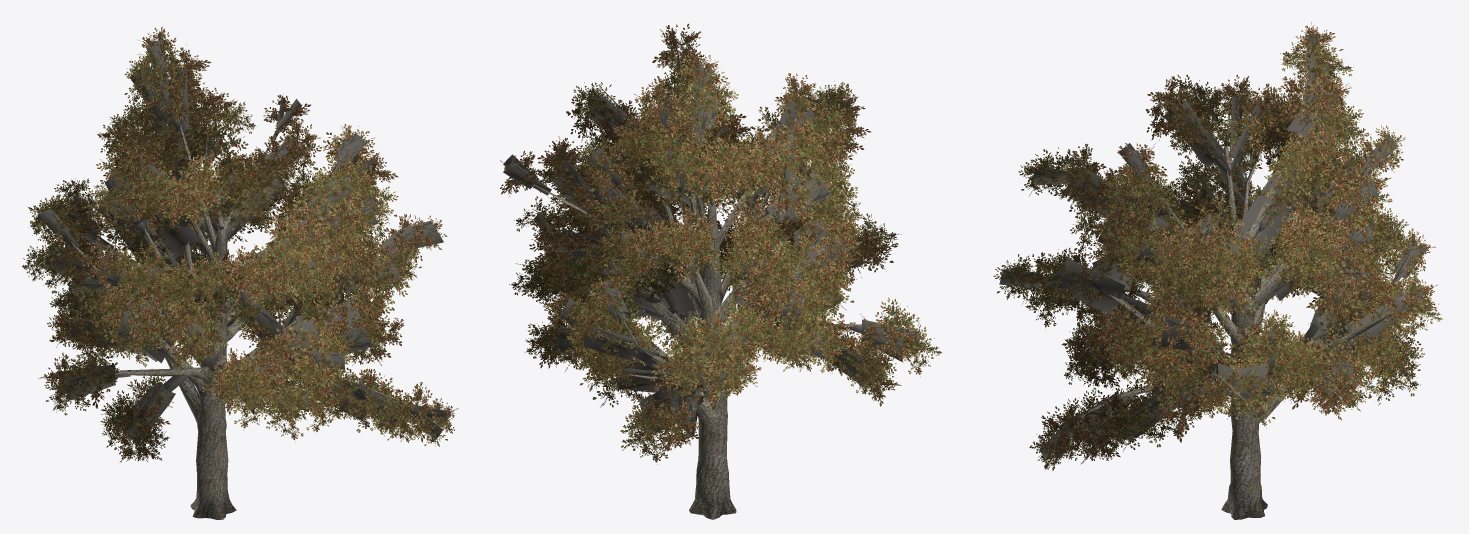
File: Tree_03_lod1.fbx
The picture shows the model from 3 angles, left to right: view 1: azimuth 30°, elevation 25°; view 2: azimuth 150°, elevation 25°; view 3: azimuth 270°, elevation 25°; orthographic projection. The views are drawn at different scales.
Visible parts, largest first — view 1: polySurface61; view 2: polySurface61; view 3: polySurface61.
Part boxes in pixels (bbox=[...]): polySurface61: bbox=[22, 27, 458, 519]; polySurface61: bbox=[500, 23, 941, 519]; polySurface61: bbox=[993, 22, 1442, 519].
Bounding box in the file's own units: 0.4624 × 0.5277 × 0.4643.
